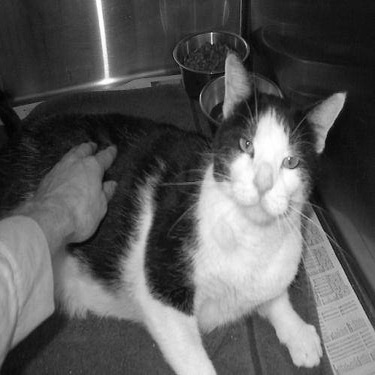cat: (9, 50, 366, 371)
